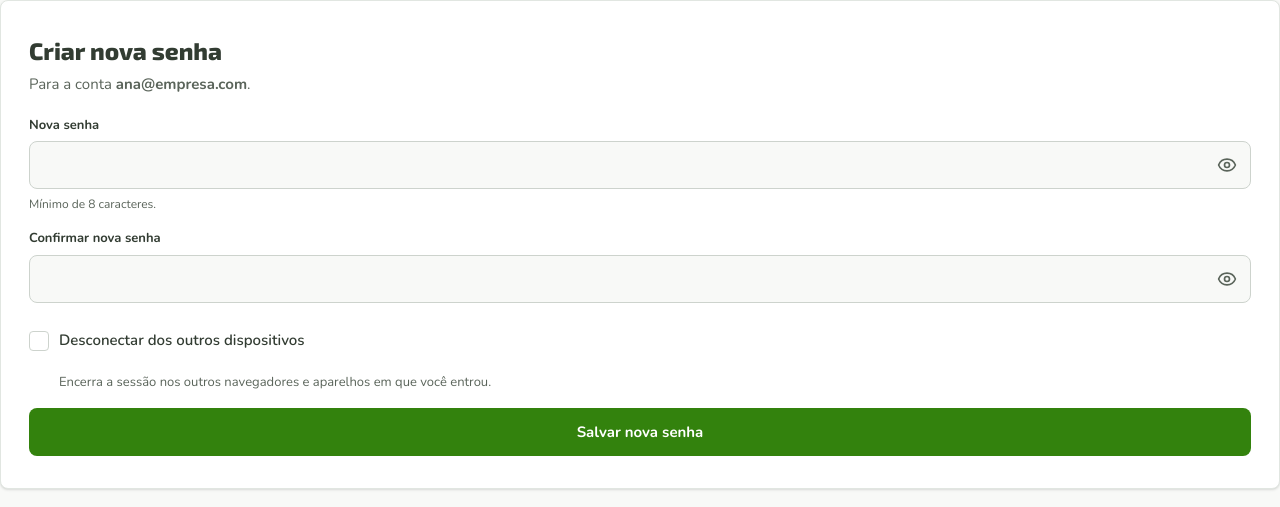
it: ResetPasswordForm › shows 'Link indisponível' without the form on 422 with errors.token
Type "new-secret-1" into the password field labelled "Nova senha" at (640, 165), box [29,141,1251,189]
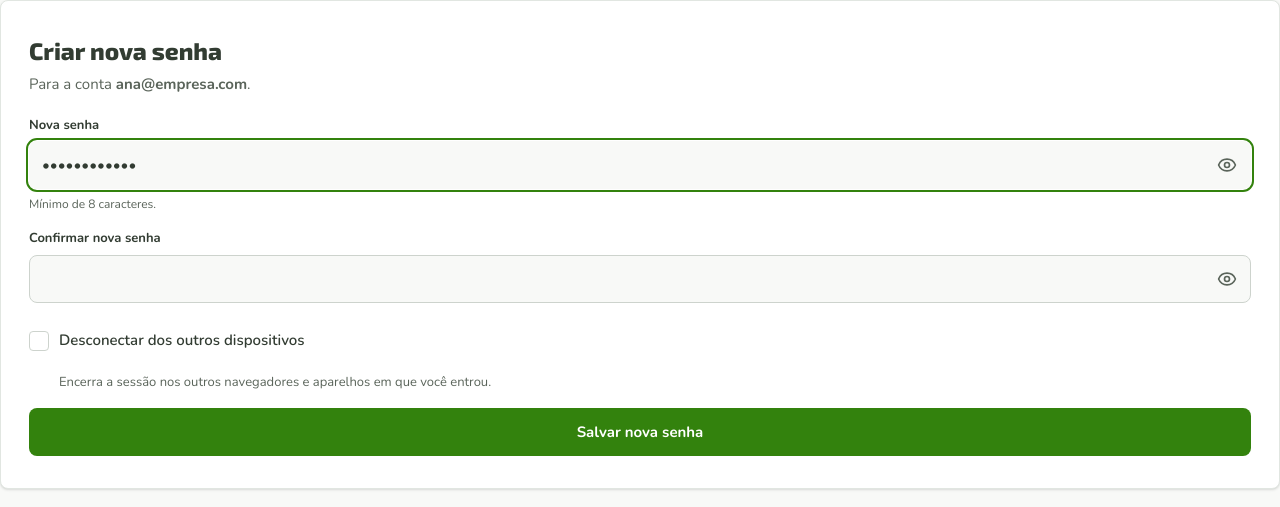
Type "new-secret-1" into the password field labelled "Confirmar nova senha" at (640, 278), box [29,254,1251,302]
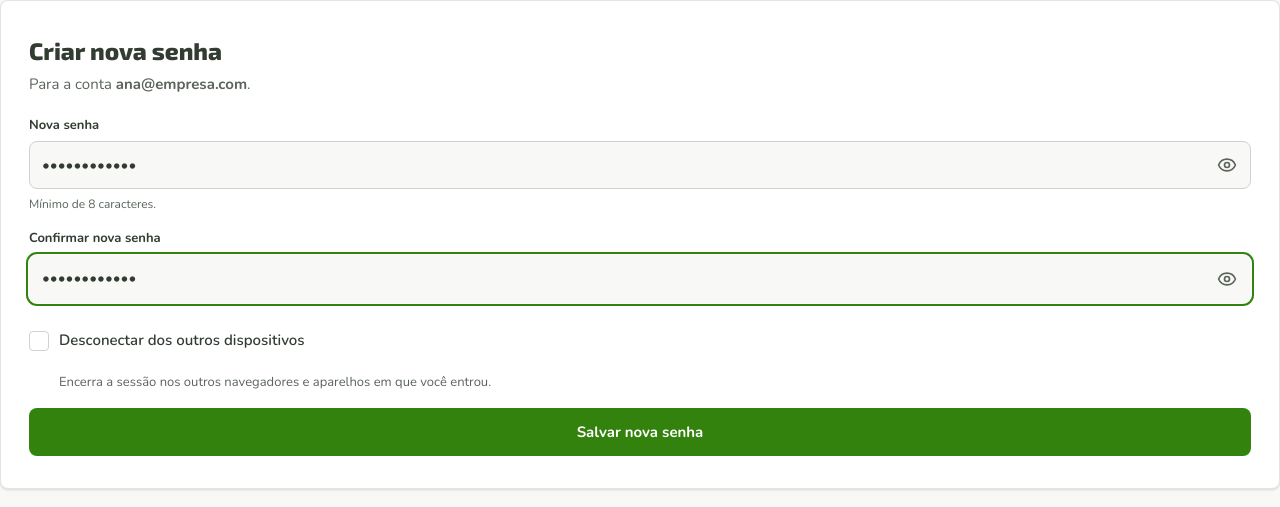
Click the button "Salvar nova senha" at (640, 432), box [29,408,1251,456]
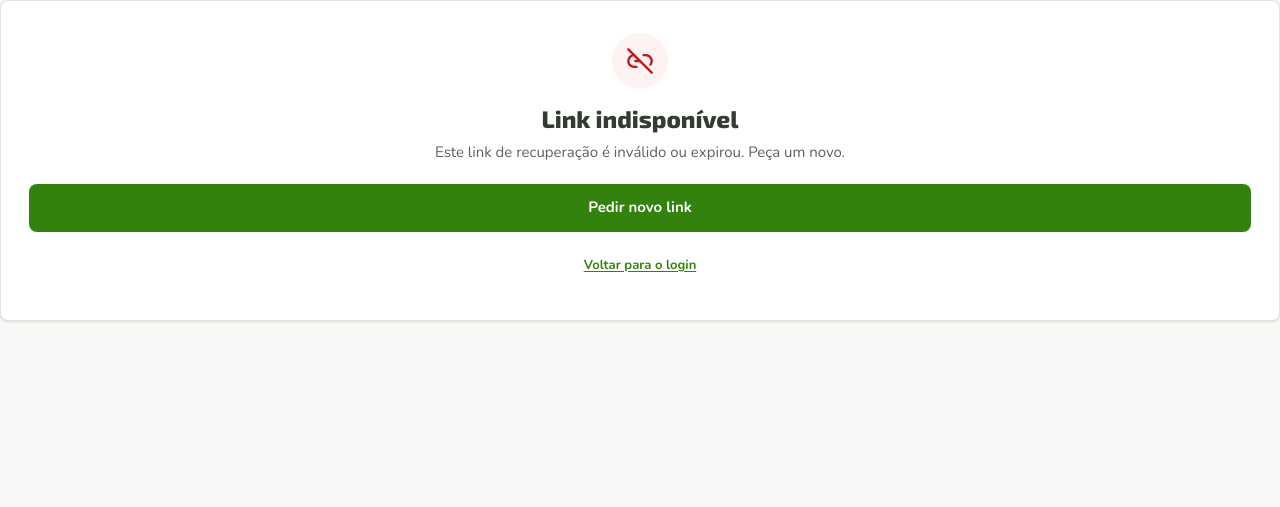
Check: the heading "Link indisponível" is shown, box [542,104,738,133]
Check: the heading labelled "nova senha" is gone
